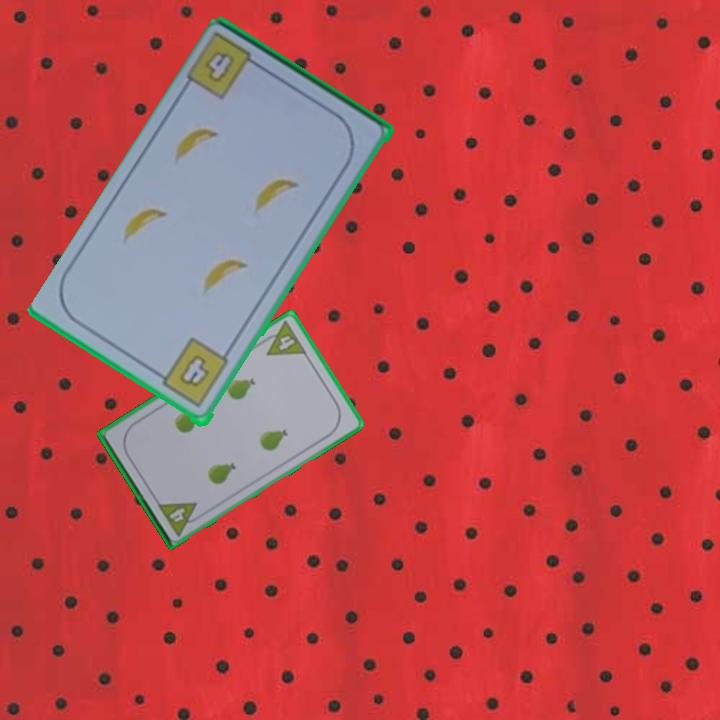4b: (184, 30, 268, 104), (152, 335, 232, 411)
4p: (256, 317, 309, 358), (154, 498, 206, 539)
